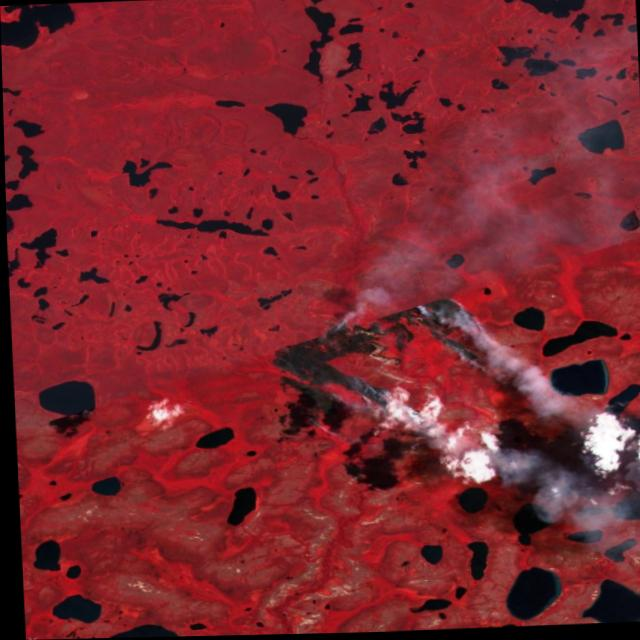fire: (386, 299, 495, 362), (313, 311, 355, 345)
